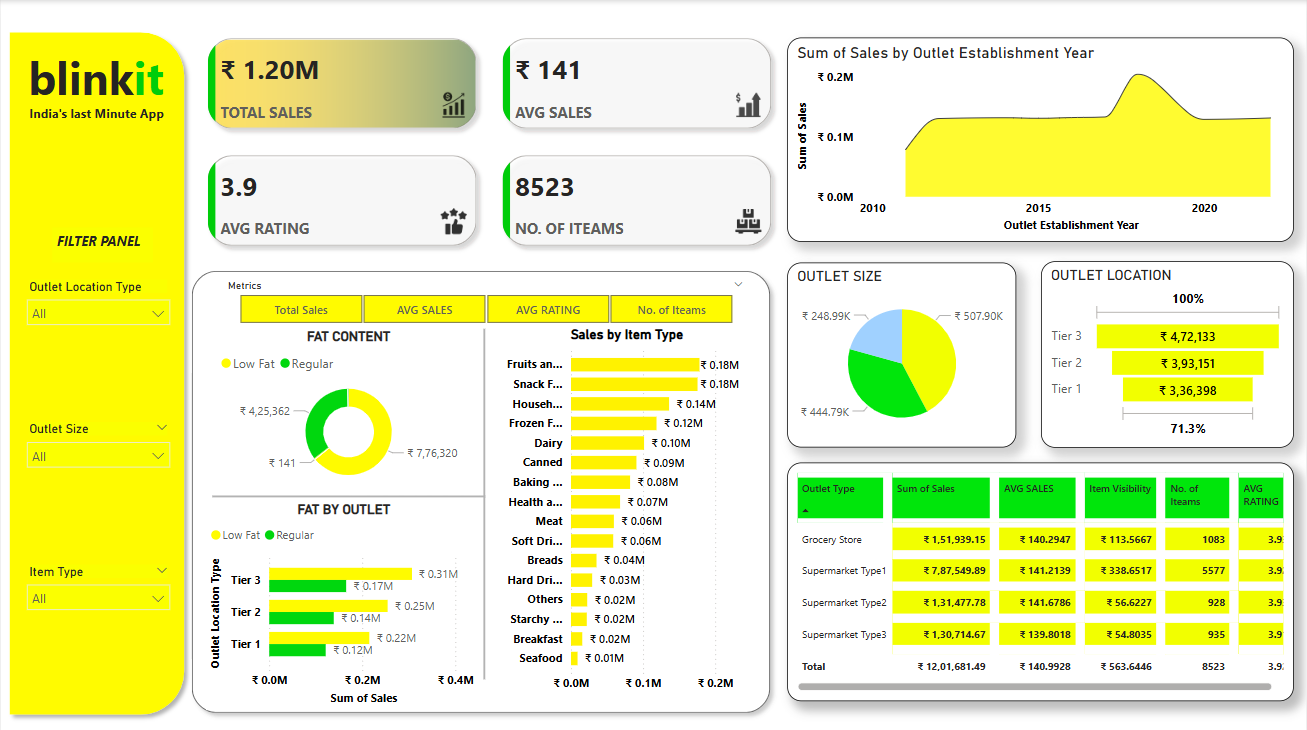

Layout of this report page (visuals, bound fields, positions):
{"tool":"powerbi","page":{"name":"Page 1","canvas":[1400,800],"ordinal":0},"visuals":[{"type":"shape","box":[0,25,205.6,750],"z":0},{"type":"textbox","box":[9.4,45.6,185,77.7],"z":1000},{"type":"textbox","box":[16.1,107.2,172.9,30.8],"z":2000},{"type":"cardVisual","fields":{"Data":["BlinkIT Grocery Data.Measure","Avg(BlinkIT Grocery Data.Sales)","Avg(BlinkIT Grocery Data.Rating)","BlinkIT Grocery Data.Measure 2"]},"box":[205.1,24.1,638.1,257.4],"z":3000},{"type":"shape","box":[195.7,281.5,638.1,492],"z":4000},{"type":"donutChart","title":"FAT CONTENT","fields":{"Y":["BlinkIT Grocery Data.Total Sales","BlinkIT Grocery Data.AVG SALES","BlinkIT Grocery Data.AVG RATING","BlinkIT Grocery Data.No. of Iteams"],"Category":["BlinkIT Grocery Data.Item Fat Content"]},"box":[230.6,352.8,284.7,175],"z":5000},{"type":"slicer","fields":{"Values":["Metrics.Metrics"]},"box":[230.6,294.4,577.8,58.3],"z":6000},{"type":"clusteredBarChart","title":"FAT BY OUTLET","fields":{"Category":["BlinkIT Grocery Data.Outlet Location Type"],"Series":["BlinkIT Grocery Data.Item Fat Content"],"Y":["Sum(BlinkIT Grocery Data.Sales)"]},"box":[219.4,537.5,295.8,223.6],"z":7000},{"type":"barChart","title":"Sales by Item Type","fields":{"Category":["BlinkIT Grocery Data.Item Type"],"Y":["Sum(BlinkIT Grocery Data.Sales)"]},"box":[525,350,291.7,401.4],"z":8000},{"type":"lineChart","fields":{"Y":["Sum(BlinkIT Grocery Data.Sales)"],"Category":["BlinkIT Grocery Data.Outlet Establishment Year"]},"box":[843.1,40.3,543.1,219.4],"z":9000},{"type":"pieChart","title":"OUTLET SIZE","fields":{"Y":["Sum(BlinkIT Grocery Data.Sales)"],"Category":["BlinkIT Grocery Data.Outlet Size"]},"box":[843.1,281.9,245.8,198.6],"z":10000},{"type":"funnel","title":"OUTLET LOCATION","fields":{"Y":["Sum(BlinkIT Grocery Data.Sales)"],"Category":["BlinkIT Grocery Data.Outlet Location Type"]},"box":[1115.3,280.6,270.8,200],"z":11000},{"type":"pivotTable","fields":{"Values":["Sum(BlinkIT Grocery Data.Sales)","BlinkIT Grocery Data.AVG SALES","Sum(BlinkIT Grocery Data.Item Visibility)","BlinkIT Grocery Data.No. of Iteams","BlinkIT Grocery Data.AVG RATING"],"Rows":["BlinkIT Grocery Data.Outlet Type"]},"box":[843.2,496,542.9,256],"z":12000},{"type":"shape","box":[226.4,526.4,293.1,11.1],"z":13000},{"type":"shape","box":[512.5,352.8,12.5,376.4],"z":14000},{"type":"slicer","fields":{"Values":["BlinkIT Grocery Data.Outlet Location Type"]},"box":[18.1,294.4,173.6,68.1],"z":15000},{"type":"slicer","fields":{"Values":["BlinkIT Grocery Data.Outlet Size"]},"box":[18.1,447.2,173.6,68.1],"z":16000},{"type":"slicer","fields":{"Values":["BlinkIT Grocery Data.Item Type"]},"box":[18.1,600,173.6,68.1],"z":17000},{"type":"textbox","box":[55.6,244.4,108.3,37.5],"z":18000}]}

Visuals, with their boxes in screenshot pixels (x1, y1, x2, y2), scaled from the page's 1400x800 canvas onto the 1307x730 screenshot:
shape: box=[0, 23, 192, 707]
textbox: box=[9, 42, 181, 113]
textbox: box=[15, 98, 176, 126]
cardVisual - BlinkIT Grocery Data.Measure x Avg(BlinkIT Grocery Data.Sales): box=[191, 22, 787, 257]
shape: box=[183, 257, 778, 706]
"FAT CONTENT" donutChart: box=[215, 322, 481, 482]
slicer - Metrics.Metrics: box=[215, 269, 755, 322]
"FAT BY OUTLET" clusteredBarChart: box=[205, 490, 481, 695]
"Sales by Item Type" barChart: box=[490, 319, 762, 686]
lineChart - Sum(BlinkIT Grocery Data.Sales) x BlinkIT Grocery Data.Outlet Establishment Year: box=[787, 37, 1294, 237]
"OUTLET SIZE" pieChart: box=[787, 257, 1017, 438]
"OUTLET LOCATION" funnel: box=[1041, 256, 1294, 439]
pivotTable - Sum(BlinkIT Grocery Data.Sales) x BlinkIT Grocery Data.AVG SALES: box=[787, 453, 1294, 686]
shape: box=[211, 480, 485, 490]
shape: box=[478, 322, 490, 665]
slicer - BlinkIT Grocery Data.Outlet Location Type: box=[17, 269, 179, 331]
slicer - BlinkIT Grocery Data.Outlet Size: box=[17, 408, 179, 470]
slicer - BlinkIT Grocery Data.Item Type: box=[17, 548, 179, 610]
textbox: box=[52, 223, 153, 257]
